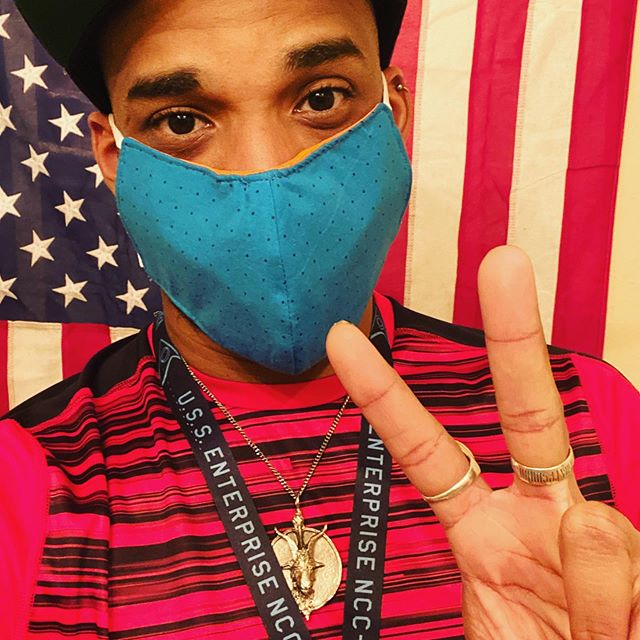homemade: (93, 122, 468, 379)
